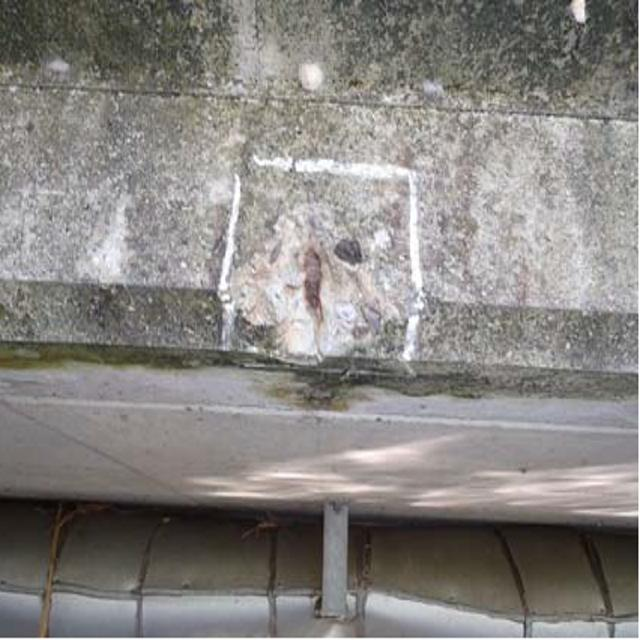spalling: (198, 203, 432, 374)
